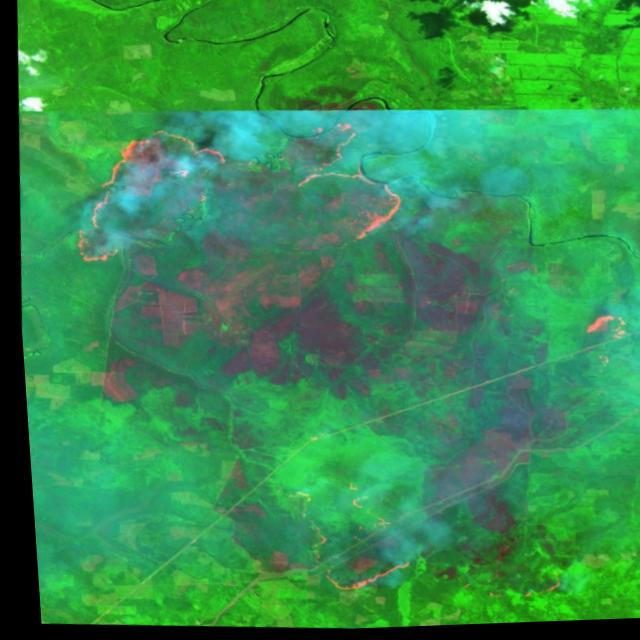fire: (53, 95, 415, 288), (569, 307, 631, 355)
